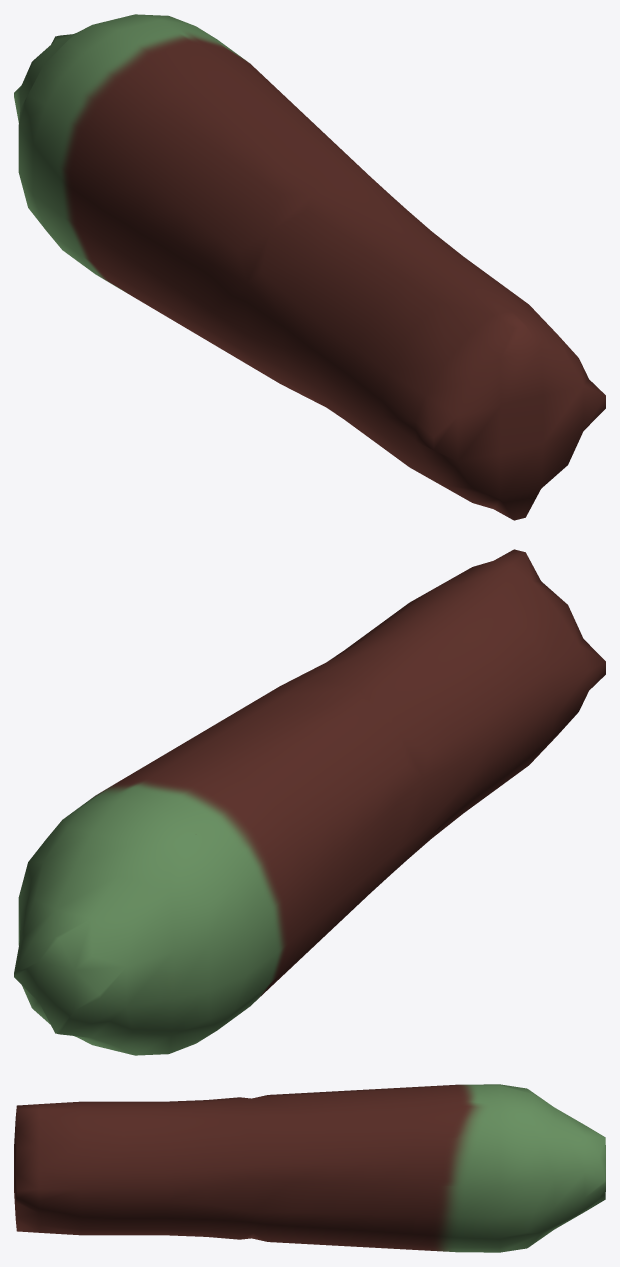
Rendered from zhand.fbx.
3 renders of one model, top to bottom at view 1: azimuth 30°, elevation 25°; view 2: azimuth 150°, elevation 25°; view 3: azimuth 270°, elevation 25°, orthographic. The views are drawn at different scales.
Parts seen in each view (by area): view 1: Hand2; view 2: Hand2; view 3: Hand2.
Boxes of the visible parts, x1,y1,x2,y2 form: Hand2: (14, 14, 605, 520); Hand2: (14, 549, 605, 1055); Hand2: (14, 1084, 605, 1252).
Bounding box in the file's own units: 49.23 × 52.55 × 185.
